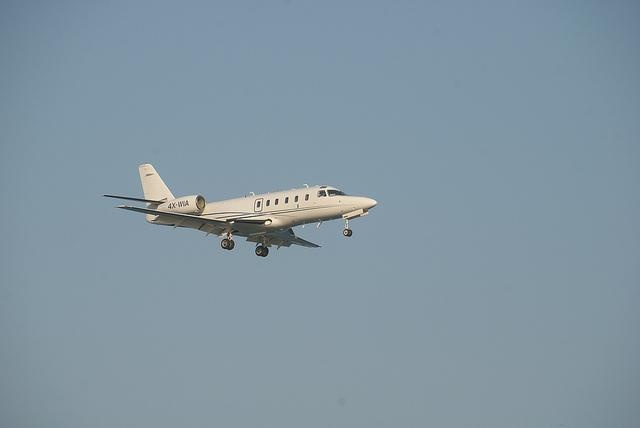airplane: (95, 159, 381, 257)
